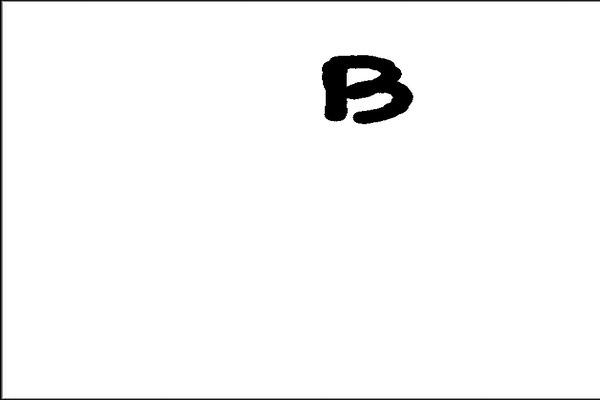B: (310, 45, 428, 140)
